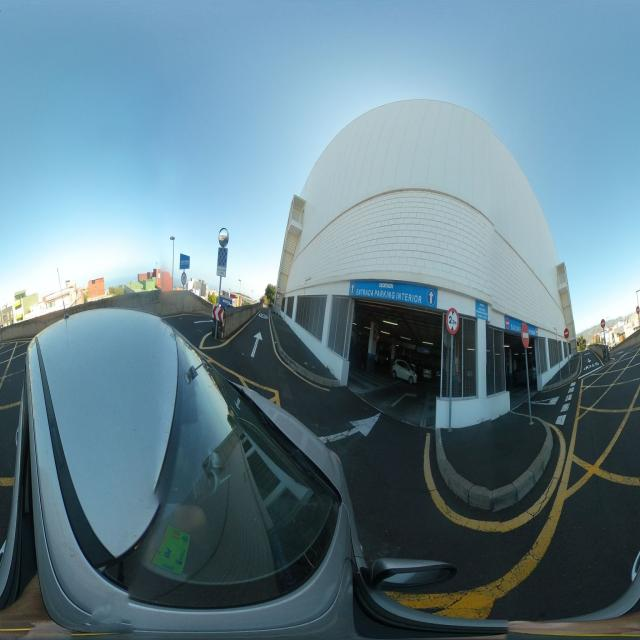car: (0, 290, 360, 639), (390, 356, 418, 386), (587, 341, 611, 364)
